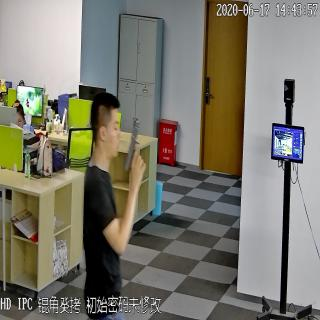gun: (123, 116, 147, 180)
